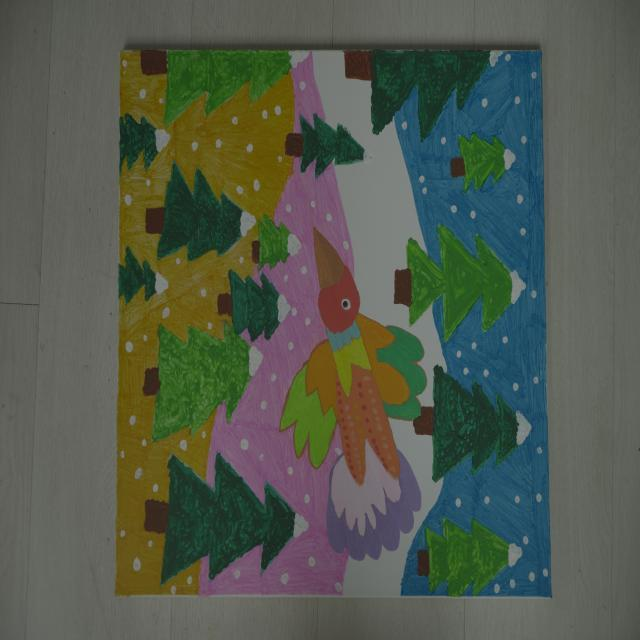painting: (116, 50, 551, 596)
